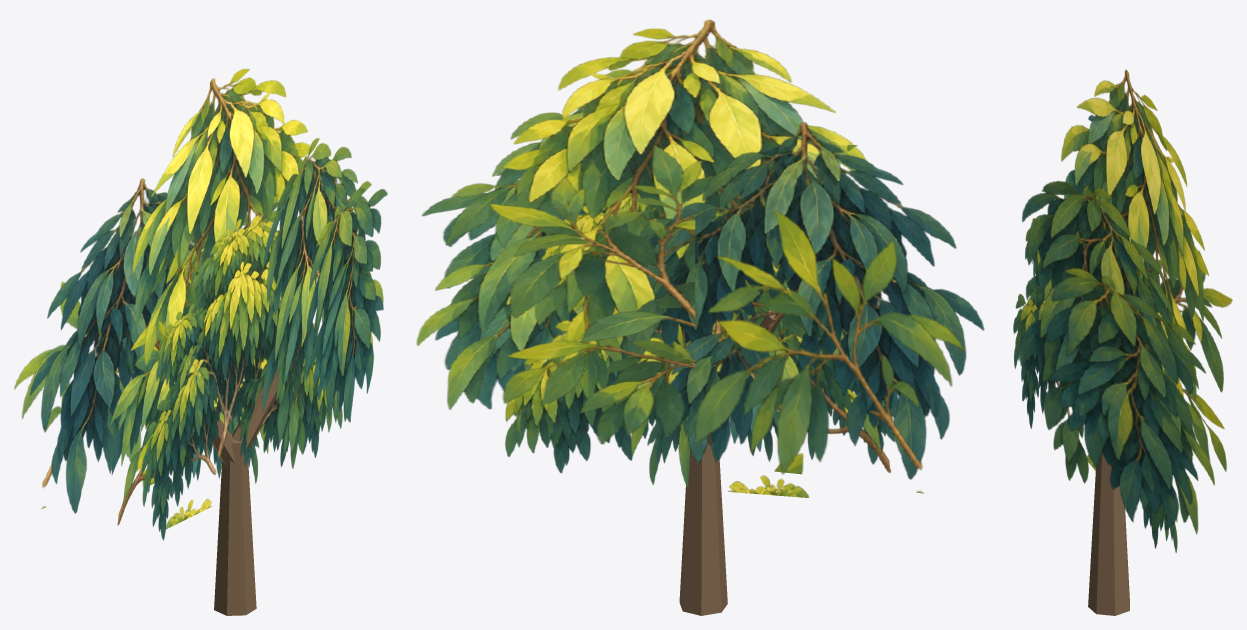
The model's file is TREE_NATIVE_ROUNDED_001_V4_RICH_LOD_GAMEPLAY.glb.
3 renders of one model, left to right at view 1: azimuth 30°, elevation 25°; view 2: azimuth 150°, elevation 25°; view 3: azimuth 270°, elevation 25°, orthographic. The views are drawn at different scales.
Visible parts, largest first — view 1: GG_NATIVE_RICH_CARD_03, GG_NATIVE_RICH_CARD_00, GG_NATIVE_RICH_CARD_01, GG_NATIVE_RICH_CARD_02, GG_NATIVE_RICH_CARD_05, GG_NATIVE_RICH_CARD_07, GG_NATIVE_V4_LOCKED_CARCASS_00, GG_NATIVE_RICH_CARD_04, GG_NATIVE_V4_LOCKED_CARCASS_02, GG_NATIVE_RICH_CARD_06, GG_NATIVE_V4_LOCKED_CARCASS_01; view 2: GG_NATIVE_RICH_CARD_01, GG_NATIVE_RICH_CARD_00, GG_NATIVE_RICH_CARD_06, GG_NATIVE_RICH_CARD_04, GG_NATIVE_RICH_CARD_02, GG_NATIVE_RICH_CARD_03, GG_NATIVE_RICH_CARD_07, GG_NATIVE_V4_LOCKED_CARCASS_00, GG_NATIVE_RICH_CARD_05; view 3: GG_NATIVE_RICH_CARD_05, GG_NATIVE_RICH_CARD_02, GG_NATIVE_RICH_CARD_00, GG_NATIVE_V4_LOCKED_CARCASS_00, GG_NATIVE_RICH_CARD_06, GG_NATIVE_RICH_CARD_03.
Boxes of the visible parts, x1,y1,x2,y2 form: GG_NATIVE_RICH_CARD_03: (142,186,342,540); GG_NATIVE_RICH_CARD_00: (132,68,310,470); GG_NATIVE_RICH_CARD_01: (30,178,212,513); GG_NATIVE_RICH_CARD_02: (262,138,383,468); GG_NATIVE_RICH_CARD_05: (306,188,387,422); GG_NATIVE_RICH_CARD_07: (110,303,268,529); GG_NATIVE_V4_LOCKED_CARCASS_00: (214,434,256,615); GG_NATIVE_RICH_CARD_04: (14,281,159,508); GG_NATIVE_V4_LOCKED_CARCASS_02: (232,362,291,453); GG_NATIVE_RICH_CARD_06: (130,196,280,397); GG_NATIVE_V4_LOCKED_CARCASS_01: (159,347,235,466); GG_NATIVE_RICH_CARD_01: (626,122,984,479); GG_NATIVE_RICH_CARD_00: (503,19,867,412); GG_NATIVE_RICH_CARD_06: (489,145,857,444); GG_NATIVE_RICH_CARD_04: (695,211,963,493); GG_NATIVE_RICH_CARD_02: (416,69,632,428); GG_NATIVE_RICH_CARD_03: (505,190,896,473); GG_NATIVE_RICH_CARD_07: (616,308,898,497); GG_NATIVE_V4_LOCKED_CARCASS_00: (679,443,727,615); GG_NATIVE_RICH_CARD_05: (422,169,606,409); GG_NATIVE_RICH_CARD_05: (1046,267,1205,530); GG_NATIVE_RICH_CARD_02: (1020,181,1214,534); GG_NATIVE_RICH_CARD_00: (1061,70,1209,402); GG_NATIVE_V4_LOCKED_CARCASS_00: (1088,453,1129,615); GG_NATIVE_RICH_CARD_06: (1071,126,1232,471); GG_NATIVE_RICH_CARD_03: (1013,218,1177,552).
Size of the model in its own units: 37.71 by 44.37 by 16.66.
Materials: 2 (1 with a texture image).
